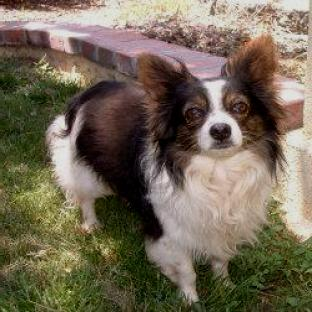Animal: (47, 36, 283, 302)
